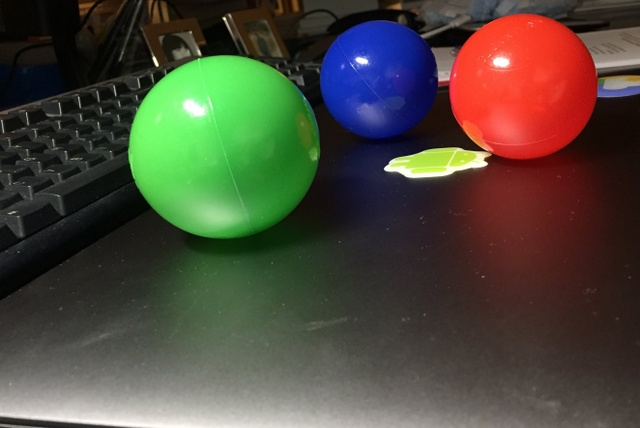Ball: (129, 54, 321, 237)
